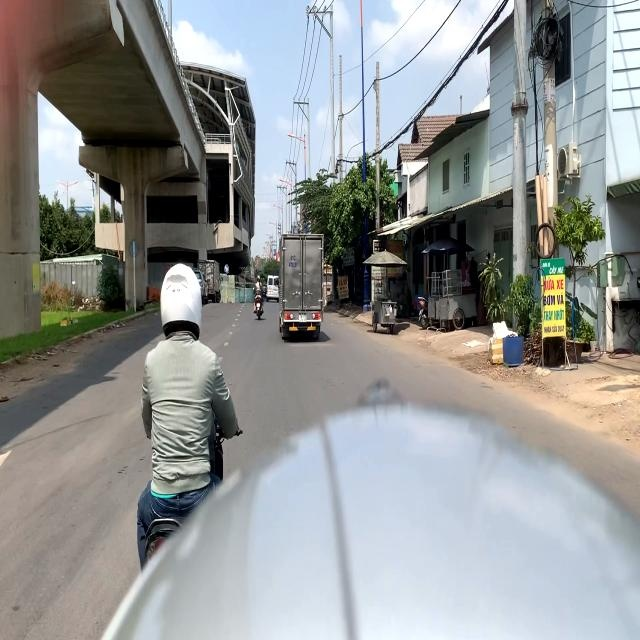bien_hieu_lenh: (224, 264, 229, 274)
